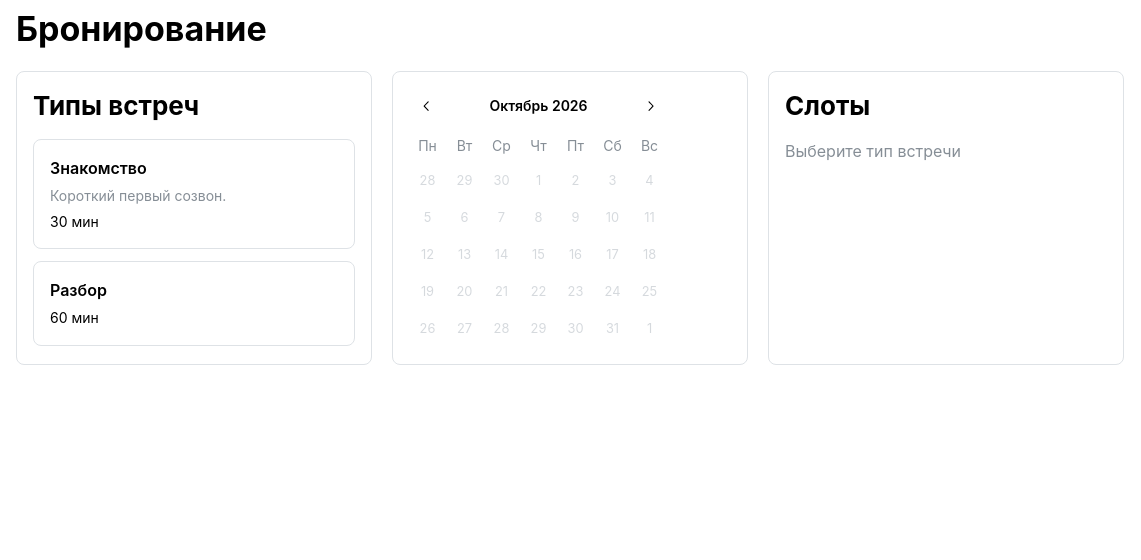
booking page › tells the guest when the selected day has no free slots
Step 1. Click the button "Знакомство Короткий первый созвон. 30 мин" → x=194, y=194, box [33,139,355,250]
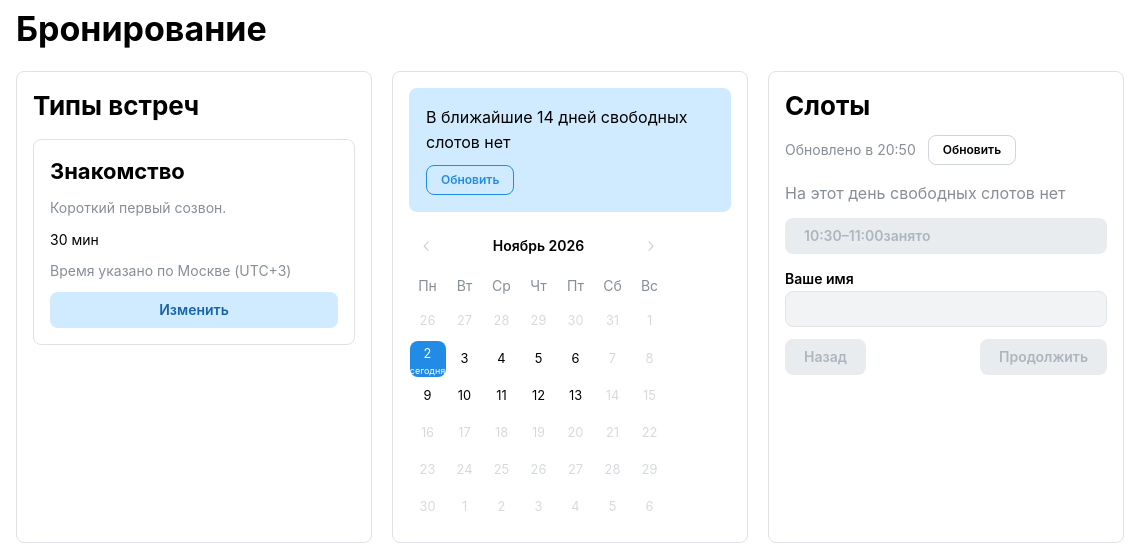
expect the text "На этот день свободных слотов нет" is shown: met, box [785,181,1107,206]
expect the button "10:30–11:00 занято" is disabled: met, box [785,218,1107,254]
